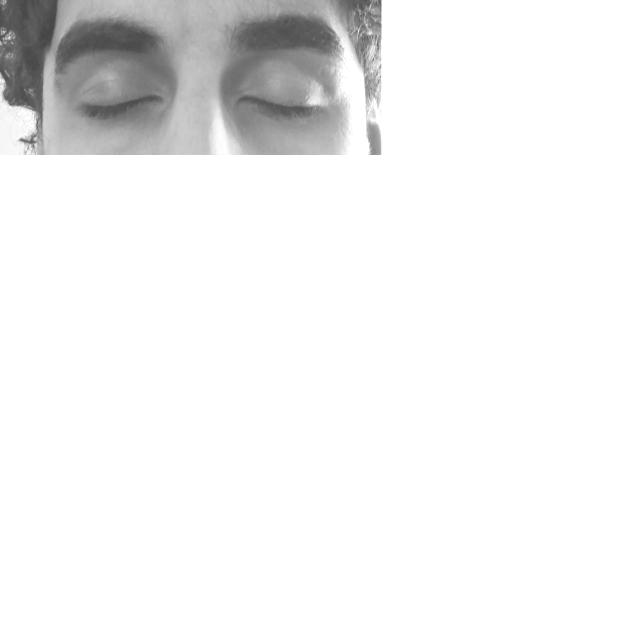real: (40, 23, 351, 139)
